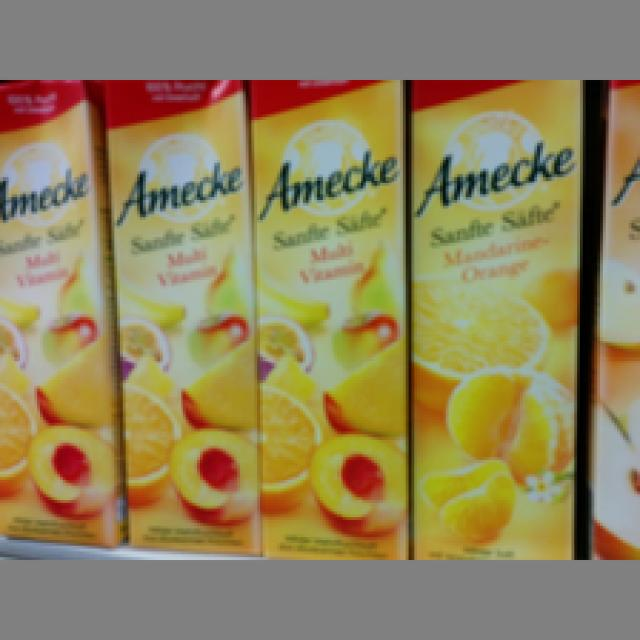groceries: (403, 77, 580, 552), (246, 77, 411, 554), (100, 77, 257, 552), (0, 77, 117, 540)
